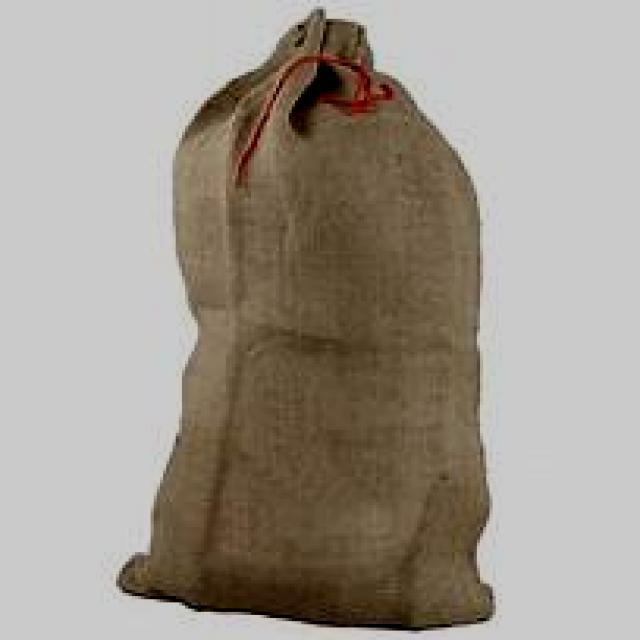gunny_bag: (107, 8, 502, 631)
